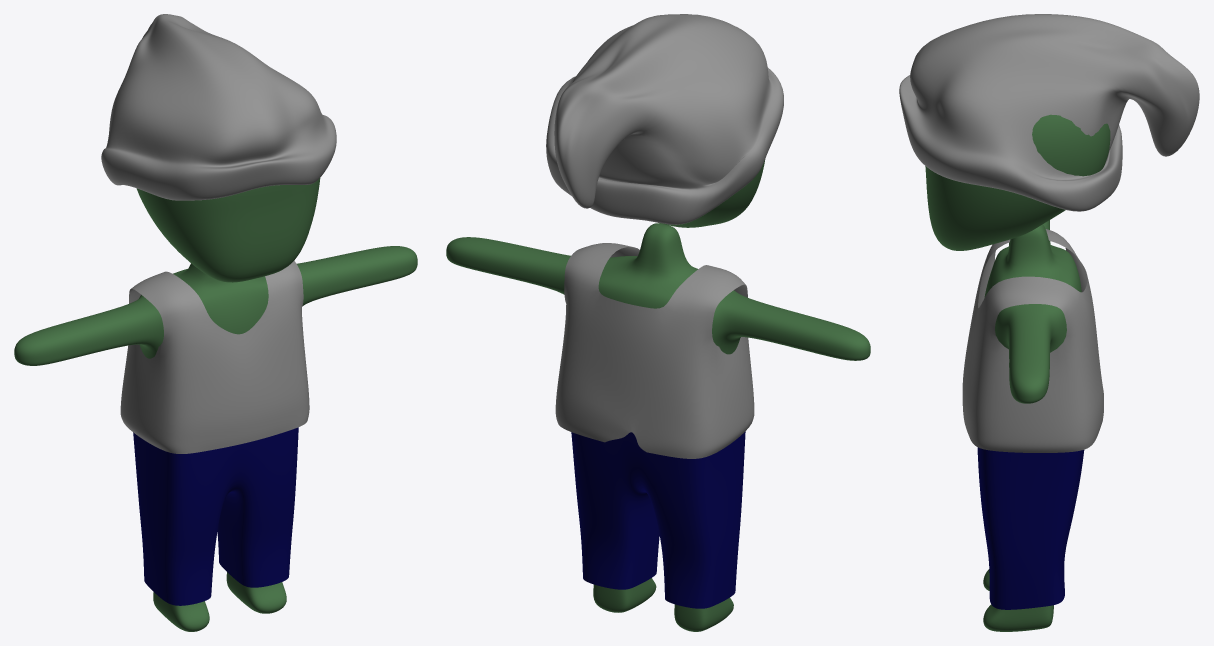
Rendered from Alien_Green_Geo.fbx.
3 views of the same model, side by side, from view 1: azimuth 30°, elevation 25°; view 2: azimuth 150°, elevation 25°; view 3: azimuth 270°, elevation 25° (orthographic). The views are drawn at different scales.
Parts seen in each view (by area): view 1: Alien_Green_Geo; view 2: Alien_Green_Geo; view 3: Alien_Green_Geo.
Part boxes in pixels (left/top/right/bottom): Alien_Green_Geo: left=14, top=14, right=417, bottom=631; Alien_Green_Geo: left=446, top=14, right=870, bottom=631; Alien_Green_Geo: left=899, top=14, right=1199, bottom=631.
Size of the model in its own units: 78.71 by 106 by 49.33.
